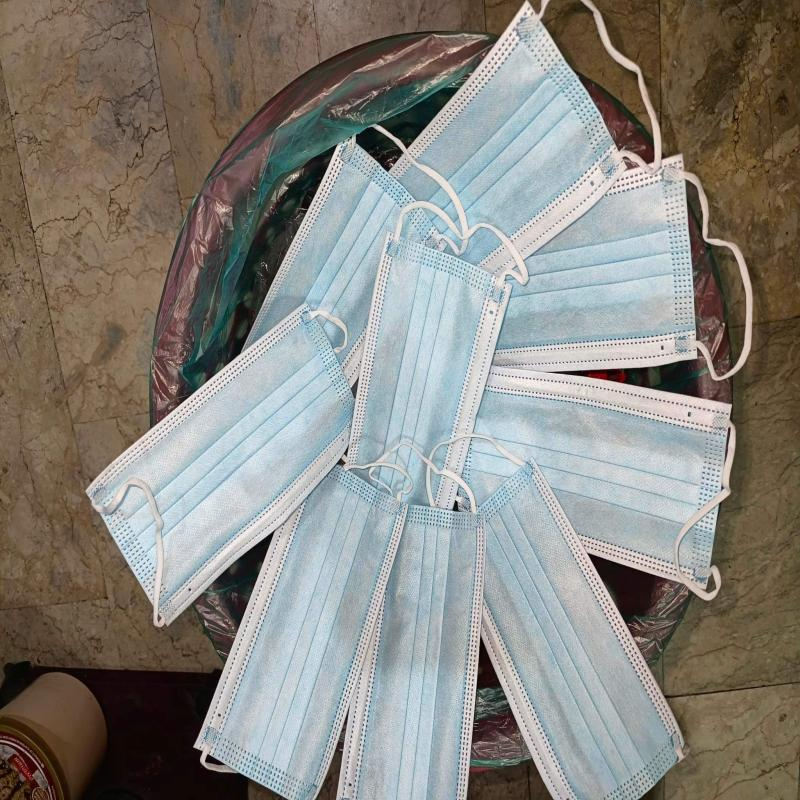facemask: (85, 306, 355, 629), (388, 1, 648, 286), (480, 461, 690, 800), (193, 468, 407, 800), (463, 367, 736, 601), (243, 129, 445, 389), (342, 233, 512, 514), (494, 152, 698, 374), (336, 506, 486, 800), (494, 155, 698, 371)
